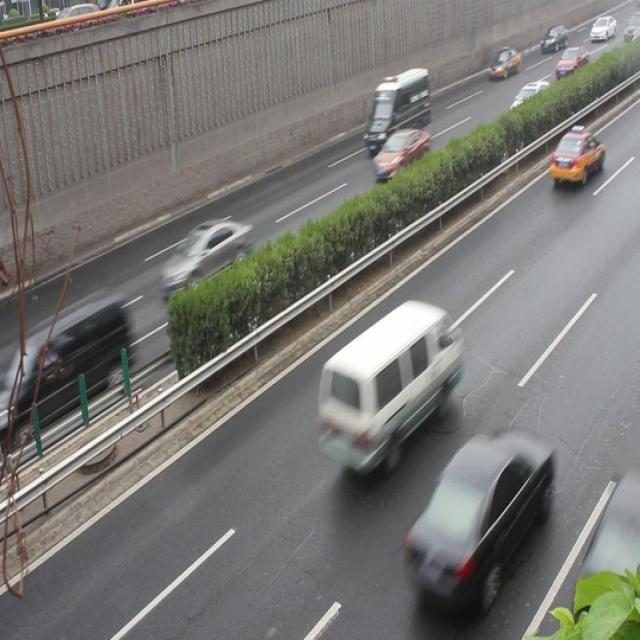car: (400, 425, 547, 588), (159, 216, 252, 298), (549, 127, 604, 185), (372, 128, 429, 181), (507, 79, 550, 120)
truck: (314, 297, 457, 470), (18, 291, 127, 417), (362, 66, 429, 154)
